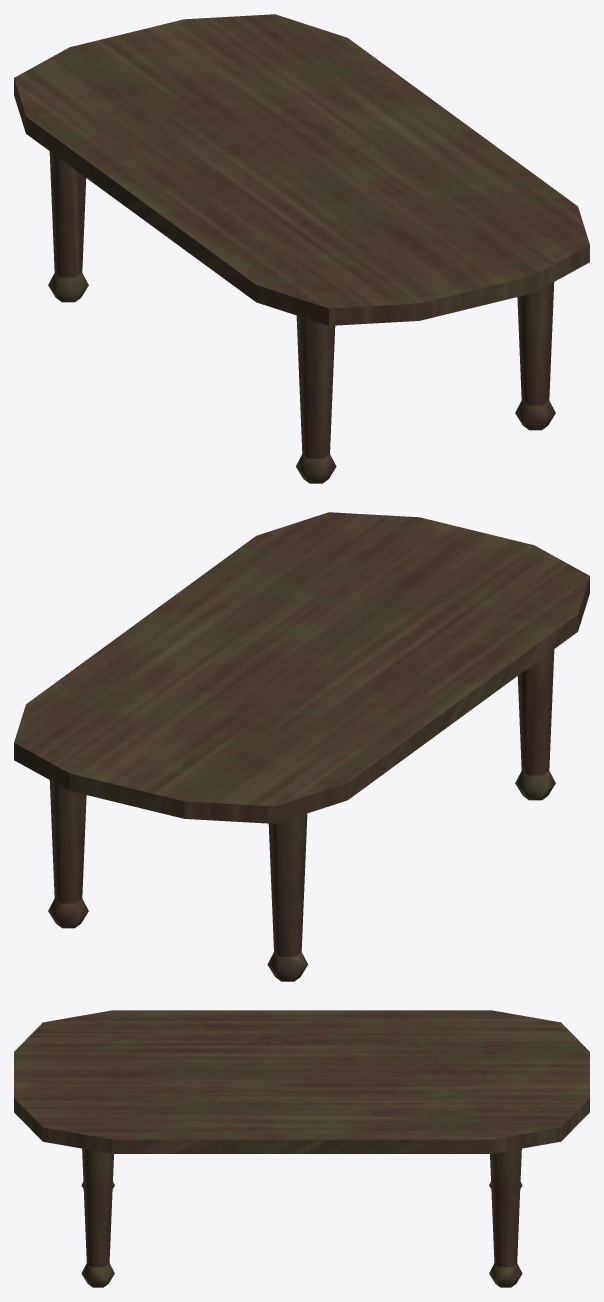
File: SM_CastleTable.fbx
3 renders of one model, top to bottom at view 1: azimuth 30°, elevation 25°; view 2: azimuth 150°, elevation 25°; view 3: azimuth 270°, elevation 25°, orthographic. The views are drawn at different scales.
Visible parts, largest first — view 1: SM_CastleTable; view 2: SM_CastleTable; view 3: SM_CastleTable.
Boxes of the visible parts, left/top/right/bottom form: SM_CastleTable: left=14, top=14, right=589, bottom=483; SM_CastleTable: left=14, top=512, right=589, bottom=981; SM_CastleTable: left=14, top=1010, right=589, bottom=1287.
Bounding box in the file's own units: 460 × 274 × 867.
